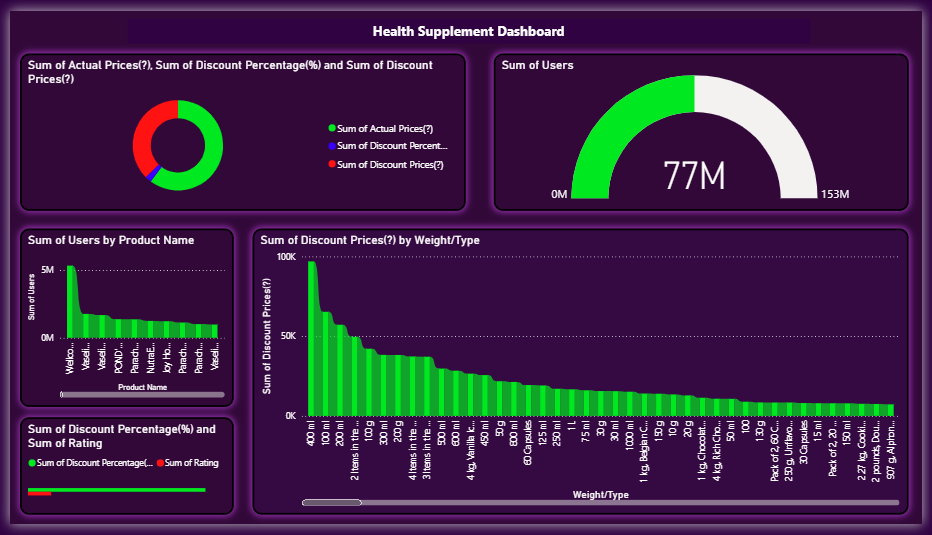

The page's visual inventory and layout, read from the dashboard file:
{"tool":"powerbi","page":{"name":"Page 1","canvas":[1280,720],"ordinal":0},"visuals":[{"type":"donutChart","fields":{"Y":["Sum(final_health_supplement.Actual Prices(?))","Sum(final_health_supplement.Discount Percentage(%))","Sum(final_health_supplement.Discount Prices(?))"]},"box":[14.5,59.7,625.8,221],"z":0},{"type":"ribbonChart","fields":{"Category":["final_health_supplement.Product Name"],"Y":["Sum(final_health_supplement.Users)"]},"box":[14.5,304.8,300,250],"z":1000},{"type":"clusteredBarChart","fields":{"Y":["Sum(final_health_supplement.Discount Percentage(%))","Sum(final_health_supplement.Rating)"]},"box":[14.5,569.4,300,137.1],"z":2000},{"type":"gauge","fields":{"Y":["Sum(final_health_supplement.Users)"]},"box":[679,59.7,582.3,221],"z":3000},{"type":"ribbonChart","fields":{"Category":["final_health_supplement.Weight/Type"],"Y":["Sum(final_health_supplement.Discount Prices(?))"]},"box":[340.3,304.8,921,401.6],"z":4000},{"type":"textbox","box":[164.5,11.3,958.1,35.5],"z":5000}]}

Visuals, with their boxes in screenshot pixels (x1, y1, x2, y2), scaled from the page's 1280x720 canvas onto the 932x535 screenshot:
donutChart - Sum(final_health_supplement.Actual Prices(?)) x Sum(final_health_supplement.Discount Percentage(%)): bbox(11, 44, 466, 209)
ribbonChart - final_health_supplement.Product Name x Sum(final_health_supplement.Users): bbox(11, 226, 229, 412)
clusteredBarChart - Sum(final_health_supplement.Discount Percentage(%)) x Sum(final_health_supplement.Rating): bbox(11, 423, 229, 525)
gauge - Sum(final_health_supplement.Users): bbox(494, 44, 918, 209)
ribbonChart - final_health_supplement.Weight/Type x Sum(final_health_supplement.Discount Prices(?)): bbox(248, 226, 918, 525)
textbox: bbox(120, 8, 817, 35)
